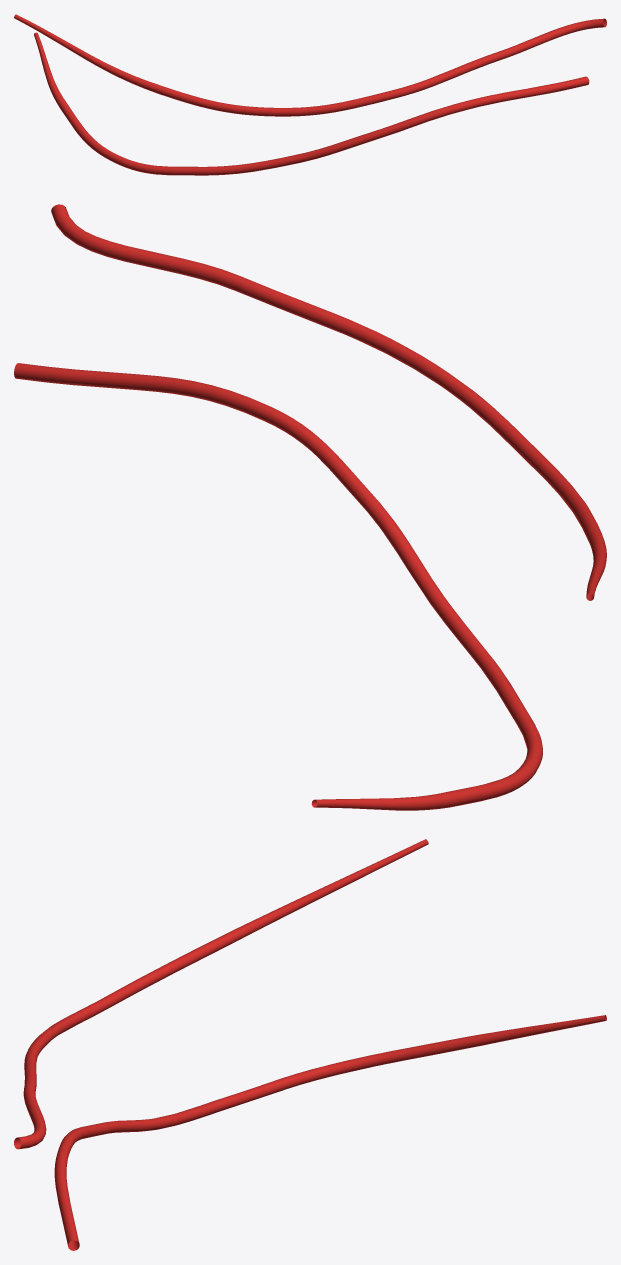
Rendered from circulatorio-lateral-pontine-branches-of-basilar-artery-r.glb.
3 views of the same model, one above another, from view 1: azimuth 30°, elevation 25°; view 2: azimuth 150°, elevation 25°; view 3: azimuth 270°, elevation 25° (orthographic). The views are drawn at different scales.
Parts seen in each view (by area): view 1: Lateral pontine branches of basilar artery.r; view 2: Lateral pontine branches of basilar artery.r; view 3: Lateral pontine branches of basilar artery.r.
Boxes of the visible parts, bbox=[...] form: Lateral pontine branches of basilar artery.r: bbox=[14, 14, 606, 175]; Lateral pontine branches of basilar artery.r: bbox=[14, 204, 606, 810]; Lateral pontine branches of basilar artery.r: bbox=[14, 839, 606, 1250].
Bounding box in the file's own units: 0.0236 × 0.00716 × 0.0198.
